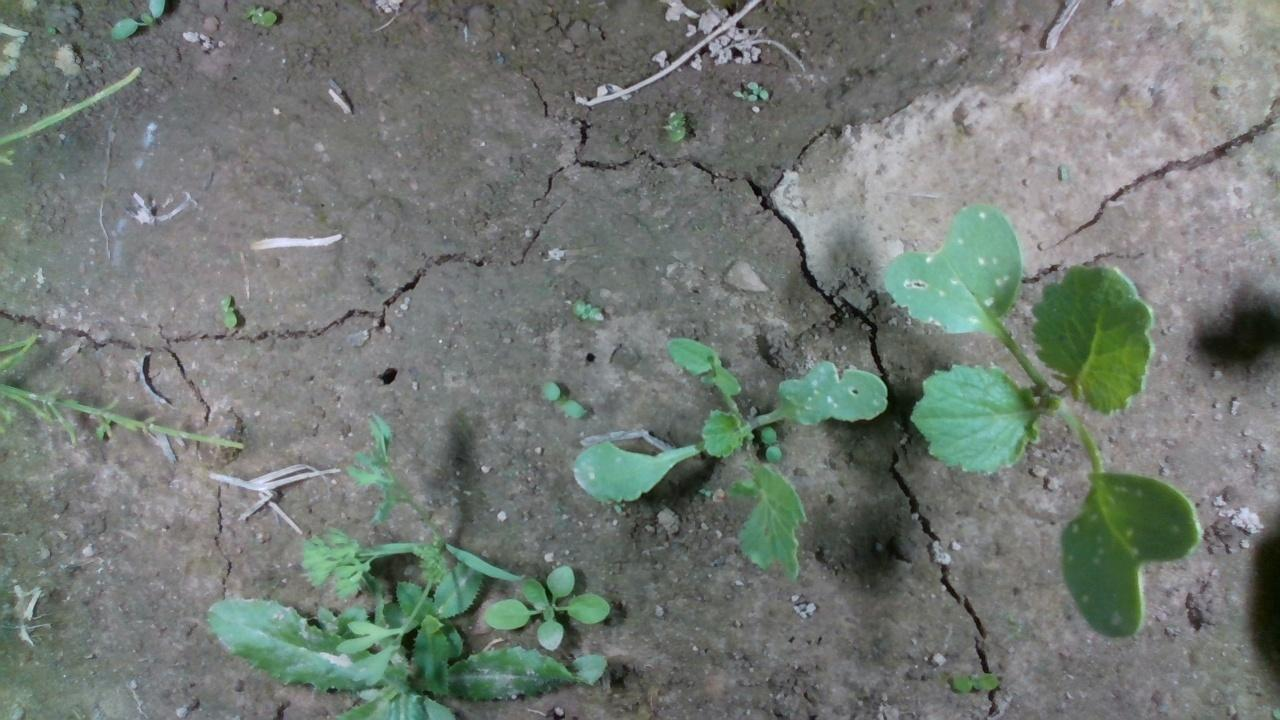weed: (536, 377, 597, 428), (213, 292, 252, 343), (949, 662, 993, 695), (663, 111, 688, 146), (733, 76, 757, 112), (573, 297, 604, 323), (250, 5, 269, 38)
